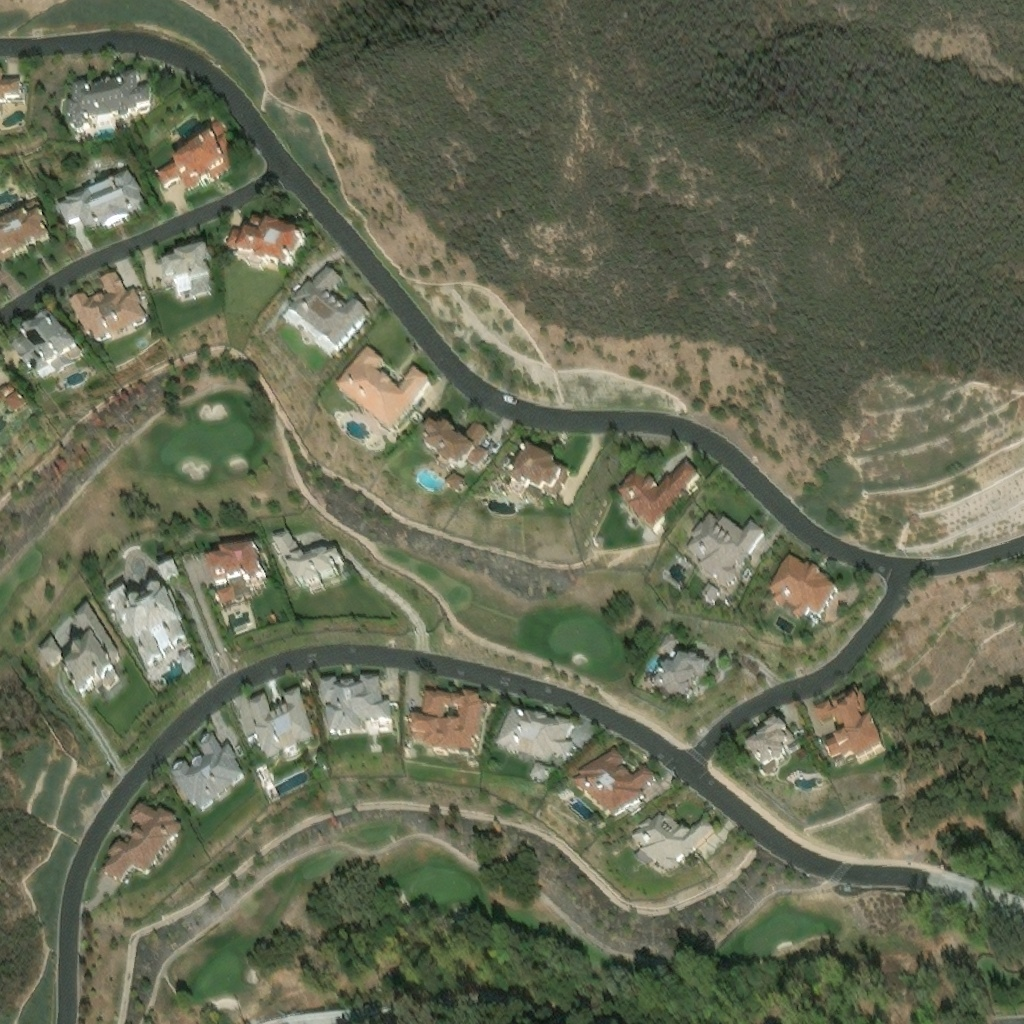0 no-damage: (289, 278, 373, 369), (101, 800, 184, 885), (107, 592, 191, 674), (340, 350, 427, 428), (571, 735, 653, 815), (168, 735, 247, 814), (54, 162, 145, 230), (71, 275, 151, 352), (630, 808, 715, 877), (813, 687, 886, 767), (153, 123, 237, 192), (686, 512, 765, 583), (413, 690, 488, 762), (614, 463, 700, 525), (16, 324, 88, 398), (61, 610, 124, 690), (62, 66, 149, 121), (274, 534, 344, 602), (769, 558, 840, 624), (229, 226, 310, 282), (325, 686, 397, 749), (252, 703, 319, 769), (495, 702, 571, 760), (647, 616, 705, 686), (0, 195, 52, 271), (742, 711, 796, 777), (420, 415, 487, 465), (161, 251, 217, 310), (507, 440, 567, 493), (210, 551, 270, 598), (35, 634, 61, 662), (14, 412, 38, 438), (162, 570, 185, 594), (530, 762, 551, 784), (181, 658, 200, 680), (221, 600, 242, 619), (699, 577, 718, 597), (0, 75, 17, 97), (0, 400, 8, 431), (7, 404, 22, 418), (795, 747, 809, 761)
